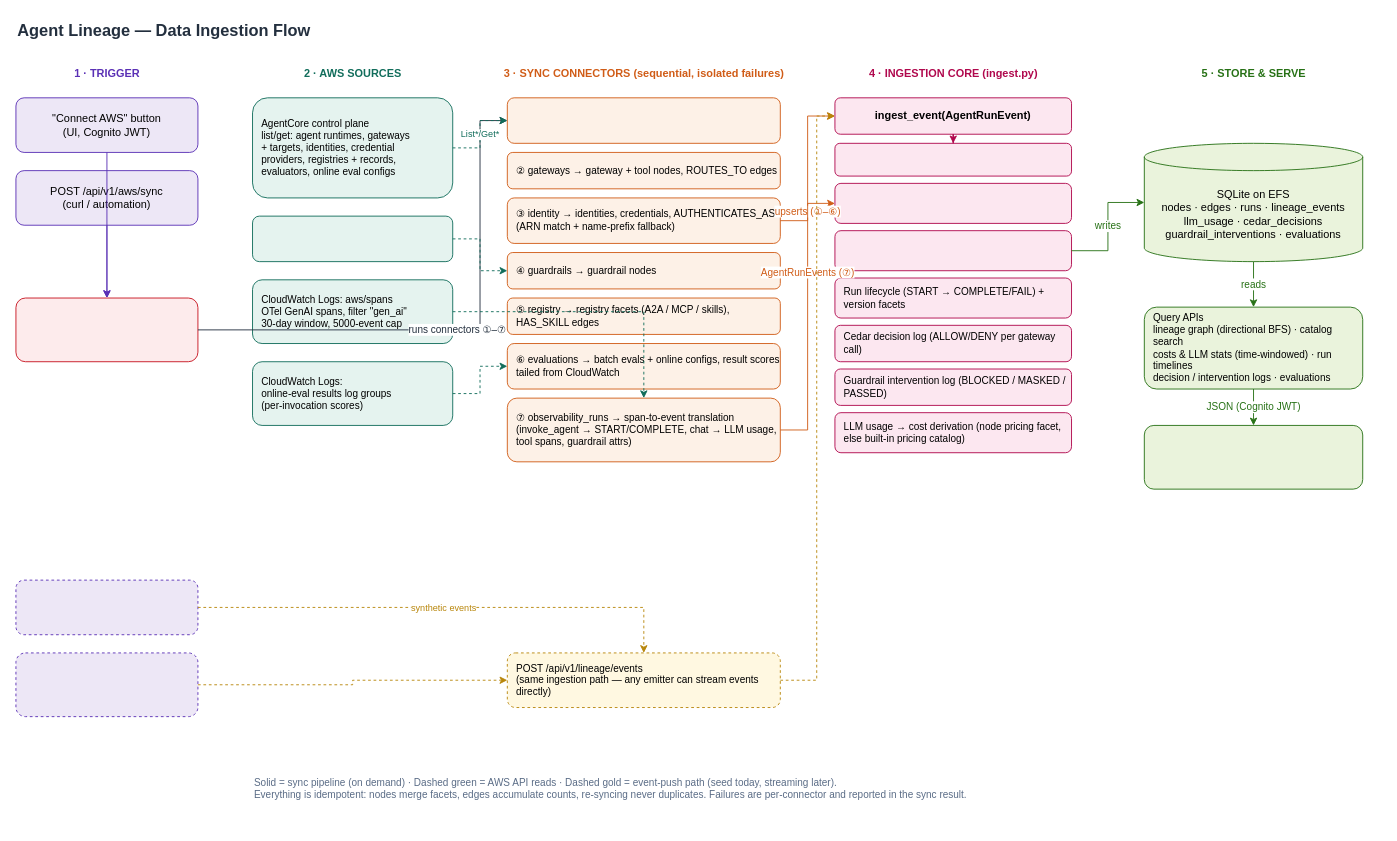
The diagram is 1397 pixels wide and 841 high, and some of its shapes have lost their labels. Here are the shapes that lost their labels. From the top down, the centre of each, then its label:
(643,120): ① runtime_agents → agents, user groups (JWT authorizer), workload-identity ARNs
(953,159): Store raw event (audit / replay)
(953,202): Upsert nodes (keyed type:namespace/name, facet merge)
(352,238): Amazon Bedrock list/get guardrails
(953,250): Upsert edges — origin: declared / observed / both, call counts, last_observed_at
(106,329): STS: discover account namespace = account/region (task-role credentials)
(1253,457): React UI lineage graph · detail tabs · runs & evaluations explorers
(106,607): Demo seed python -m app.seed
(106,684): [future] Streaming: CloudWatch Logs subscription → OTel translator Lambda
